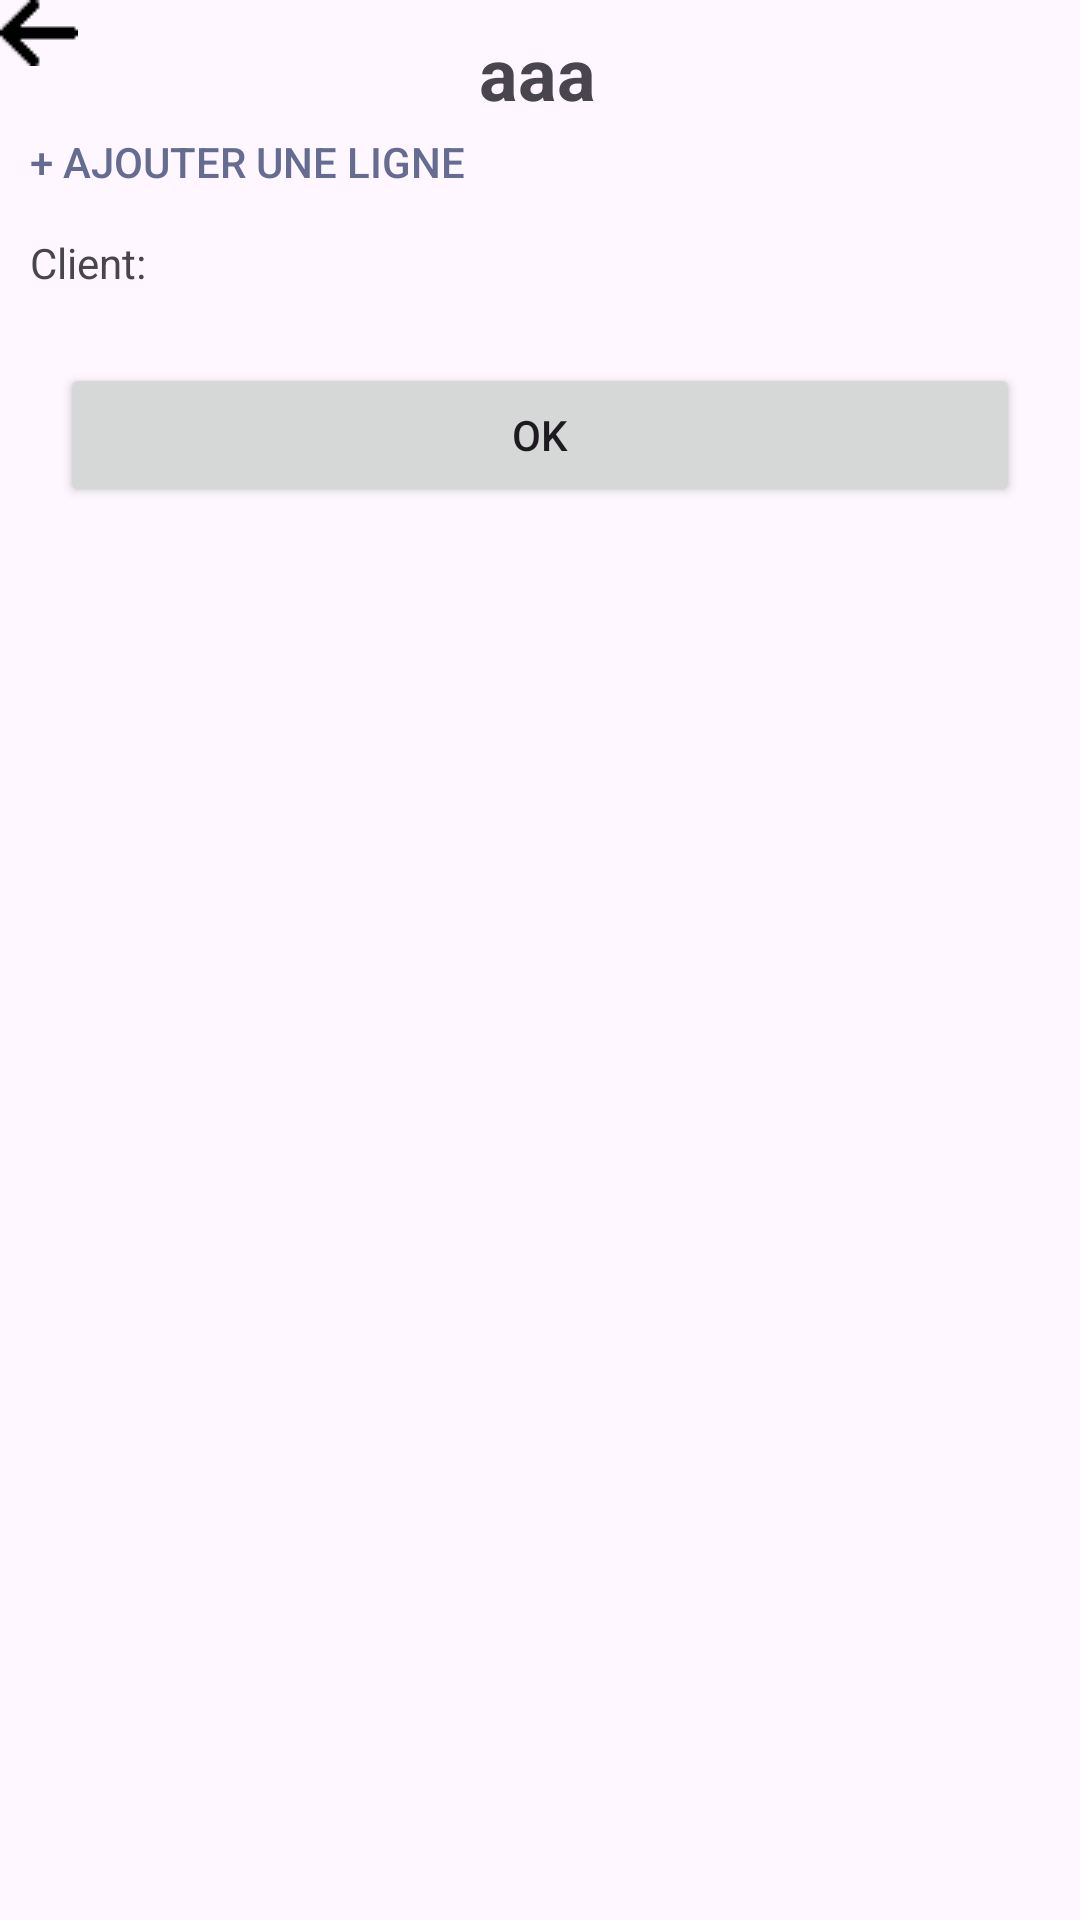

Screen size 1080 x 1920. Icon name, then its box in pixels as [x1,y1,x2,y2]:
arrow: [0,0,78,66]
